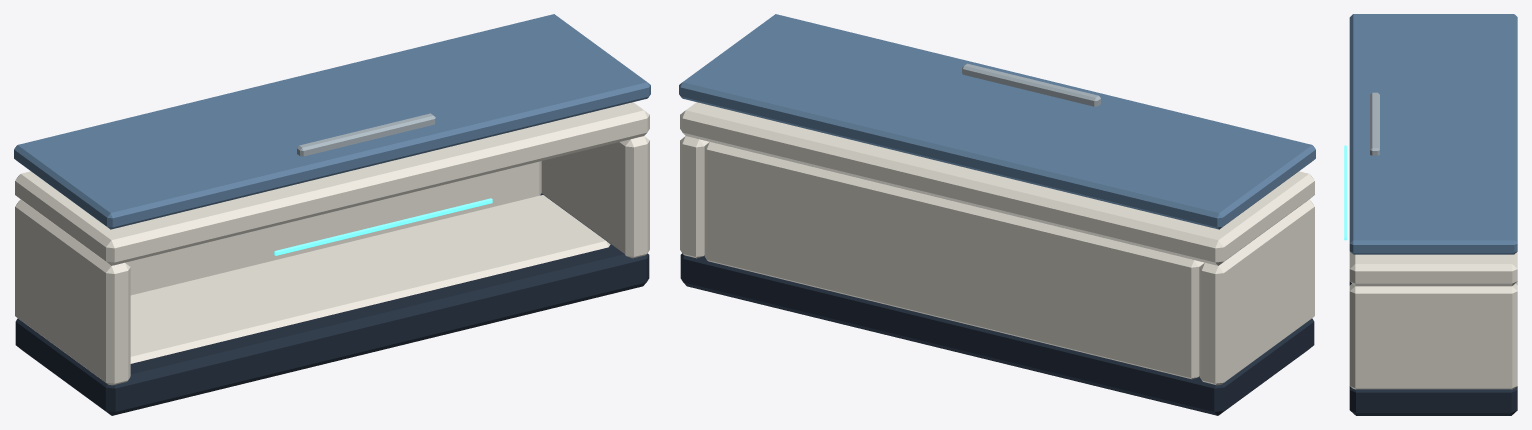
Rendered from campus_09.glb.
3 views of the same model, side by side, from view 1: azimuth 30°, elevation 25°; view 2: azimuth 150°, elevation 25°; view 3: azimuth 270°, elevation 25° (orthographic). The views are drawn at different scales.
Visible parts, largest first — view 1: Lid, Bottom, Base, Top, Side (×2), Back, Handle, StatusLight; view 2: Back, Lid, Top, Base, Side (×2), Handle; view 3: Lid, Side, Top, Base, Handle, StatusLight.
Boxes of the visible parts, left/top/right/bottom form: Lid: left=14, top=14, right=650, bottom=229; Bottom: left=130, top=195, right=610, bottom=363; Base: left=15, top=193, right=649, bottom=415; Top: left=15, top=102, right=649, bottom=265; Side (×2): left=15, top=136, right=649, bottom=385; Back: left=125, top=161, right=541, bottom=295; Handle: left=297, top=113, right=435, bottom=156; StatusLight: left=274, top=198, right=492, bottom=255; Back: left=704, top=142, right=1204, bottom=379; Lid: left=679, top=14, right=1315, bottom=229; Top: left=680, top=102, right=1314, bottom=265; Base: left=680, top=253, right=1314, bottom=415; Side (×2): left=680, top=136, right=1314, bottom=385; Handle: left=962, top=63, right=1100, bottom=106; Lid: left=1349, top=14, right=1517, bottom=254; Side: left=1349, top=283, right=1517, bottom=389; Top: left=1349, top=251, right=1517, bottom=286; Base: left=1349, top=281, right=1517, bottom=415; Handle: left=1370, top=92, right=1379, bottom=155; StatusLight: left=1344, top=145, right=1346, bottom=240.
Size of the model in its own units: 1.55 by 0.579 by 0.496.
